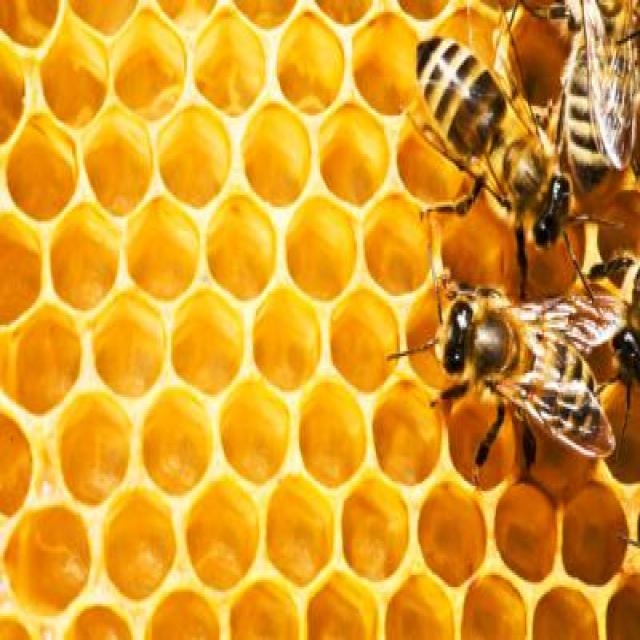antennae: (386, 339, 439, 369), (426, 252, 445, 332)
body: (433, 295, 604, 427)
insect: (386, 251, 625, 502)
legs: (469, 398, 509, 482), (422, 368, 476, 413), (512, 406, 540, 483)
wings: (478, 368, 615, 464), (502, 291, 622, 352)
